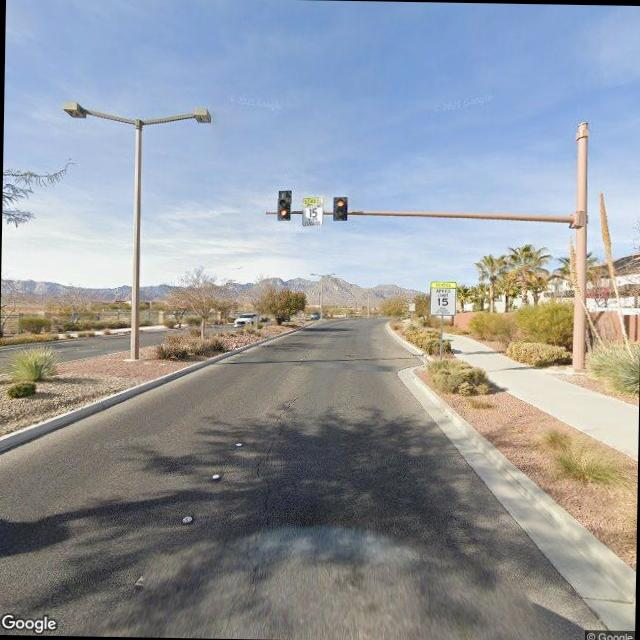pothole: (250, 388, 298, 522)
